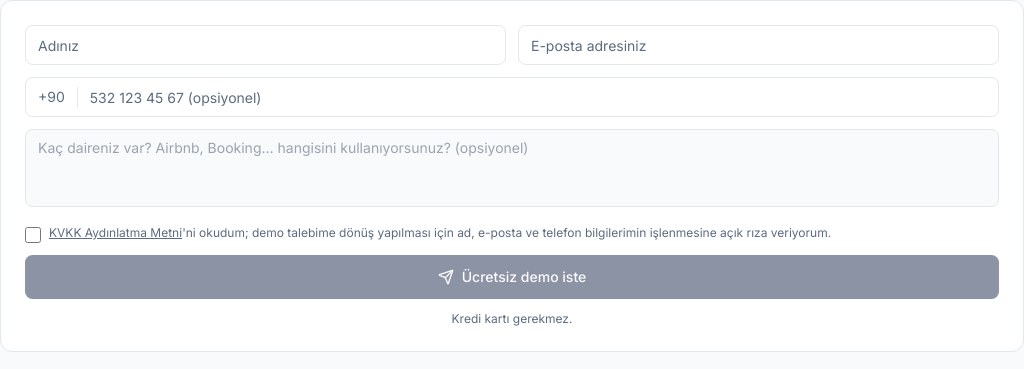
Test: Y10 (10-14 dış inceleme): yapıştırılan ülke kodlu numara KESİLMEZ › 🚨 +90 532 123 45 67 → 532 123 45 67
Type "+90 532 123 45 67" into the field named "Telefon numaranız".
click(538, 97); type("+90 532 123 45 67")  # box [78,78,998,116]
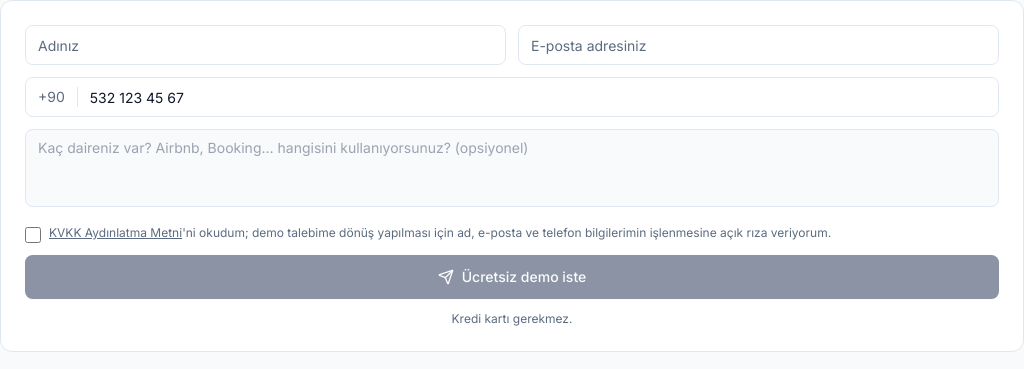
Result: the field named "Telefon numaranız" holds "532 123 45 67" at [78,78,998,116]
